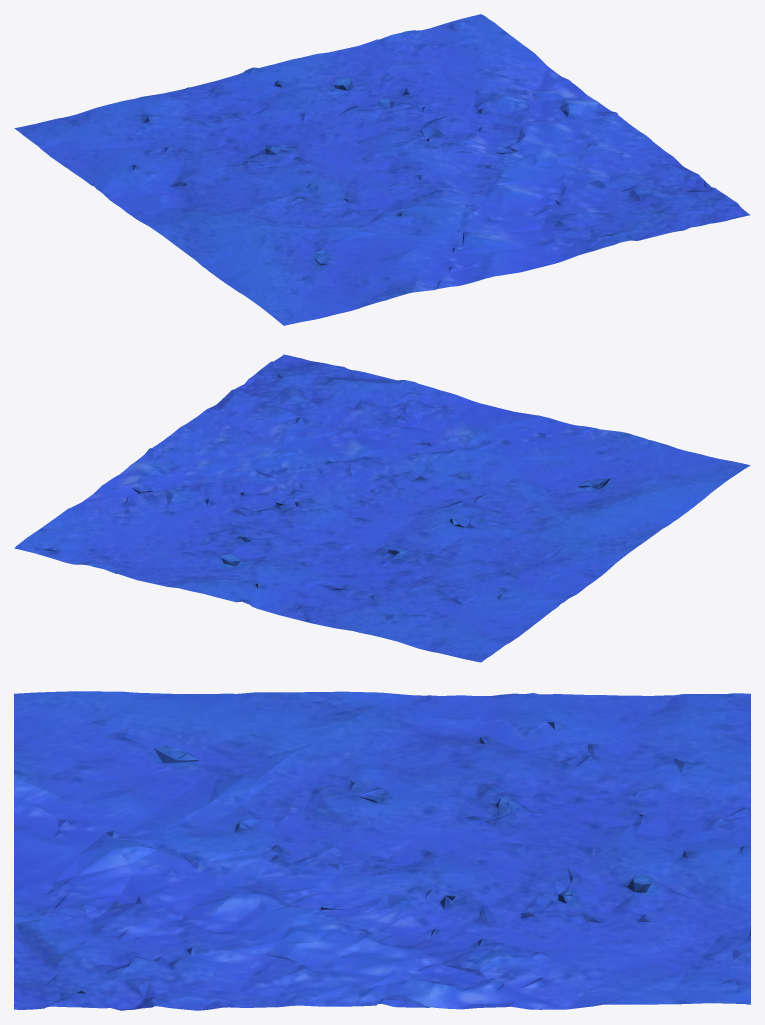
3 views of the same model, one above another, from view 1: azimuth 30°, elevation 25°; view 2: azimuth 150°, elevation 25°; view 3: azimuth 270°, elevation 25° (orthographic). The views are drawn at different scales.
Bounding box in the file's own units: 26.11 × 0.6032 × 26.11.
Materials: 3 (3 with a texture image).
